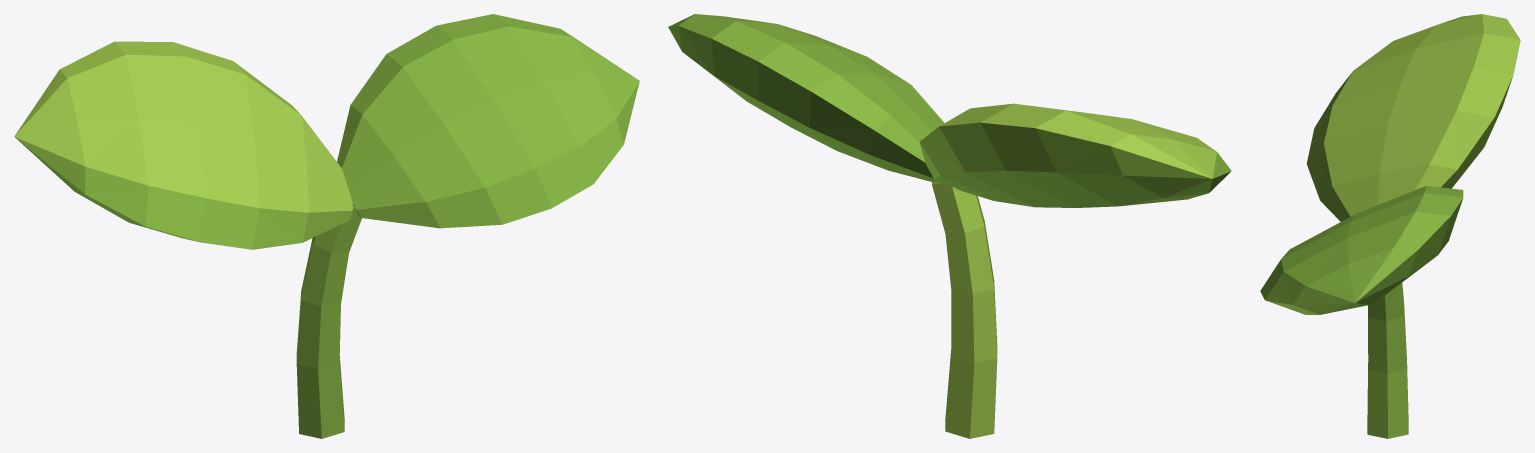
The model's file is FMS_Crop_Pumpkin_S1.fbx.
The picture shows the model from 3 angles, left to right: view 1: azimuth 30°, elevation 25°; view 2: azimuth 150°, elevation 25°; view 3: azimuth 270°, elevation 25°; orthographic projection. The views are drawn at different scales.
Parts seen in each view (by area): view 1: FMS_Crop_Pumpkin_S1; view 2: FMS_Crop_Pumpkin_S1; view 3: FMS_Crop_Pumpkin_S1.
Boxes of the visible parts, x1,y1,x2,y2 form: FMS_Crop_Pumpkin_S1: (14,14,639,438); FMS_Crop_Pumpkin_S1: (668,14,1231,438); FMS_Crop_Pumpkin_S1: (1260,14,1520,438).
Bounding box in the file's own units: 0.397 × 0.2474 × 0.1742.
